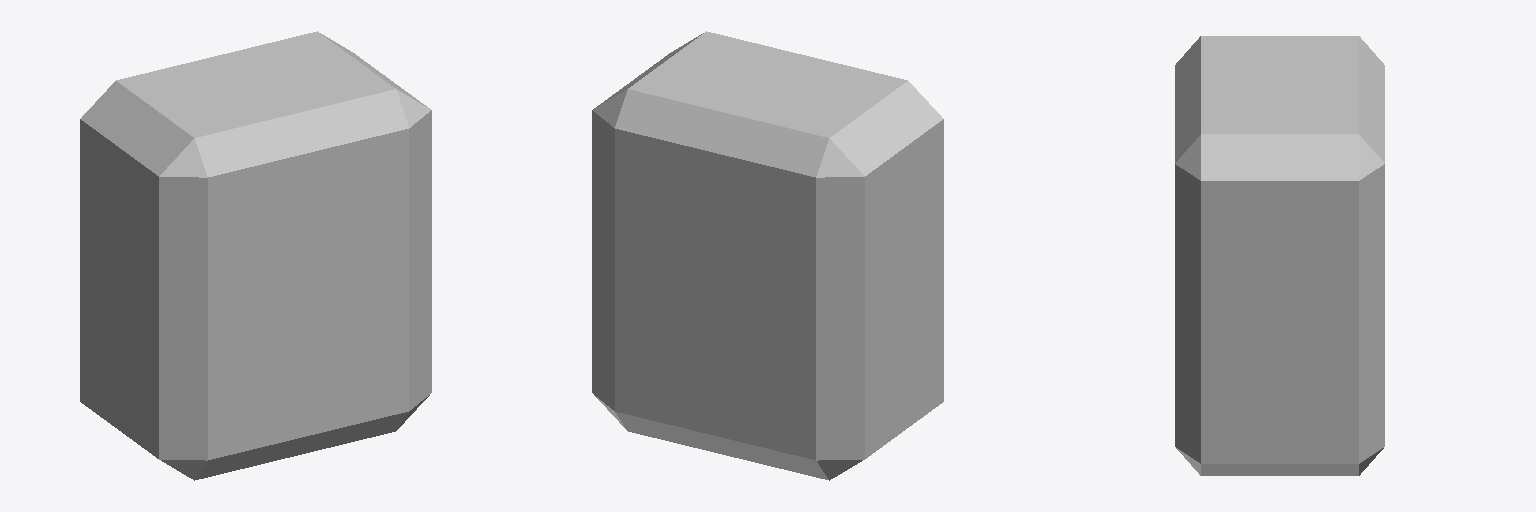
Rendered from body.obj.
3 views of the same model, side by side, from view 1: azimuth 30°, elevation 25°; view 2: azimuth 150°, elevation 25°; view 3: azimuth 270°, elevation 25° (orthographic).
Visible parts, largest first — view 1: Cube.002; view 2: Cube.002; view 3: Cube.002.
Boxes of the visible parts, x1,y1,x2,y2 form: Cube.002: [80, 31, 431, 480]; Cube.002: [592, 31, 943, 480]; Cube.002: [1175, 36, 1384, 475].
Size of the model in its own units: 2.42 by 2.9 by 1.62.